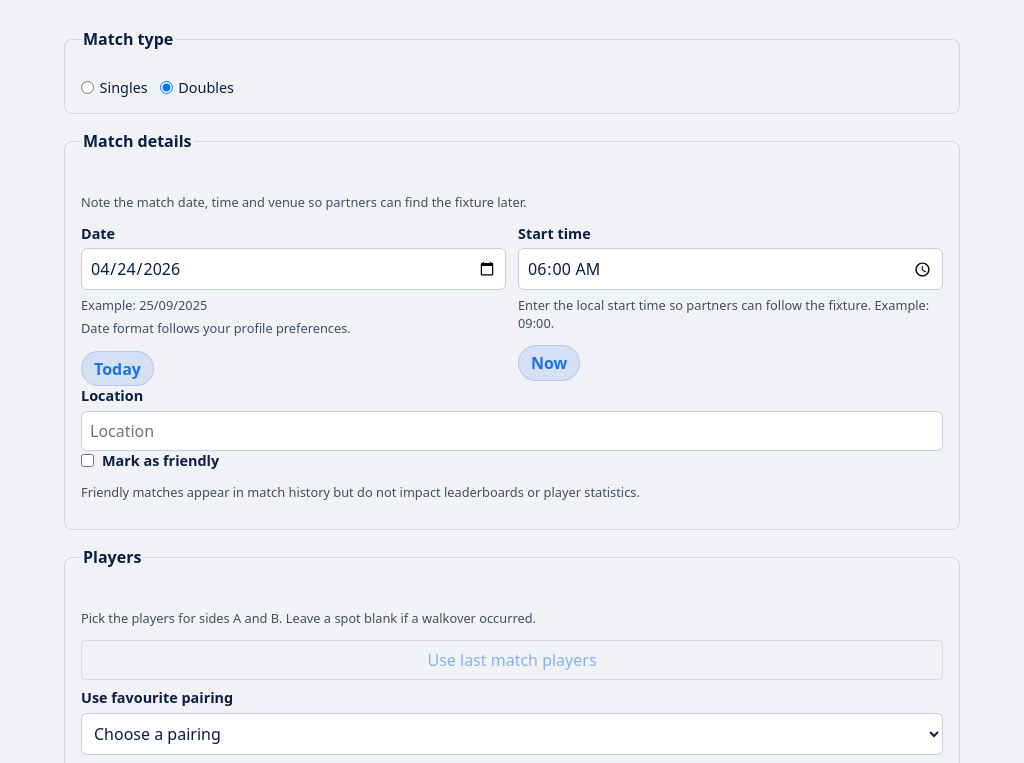
it: RecordSportForm › lets padel matches switch between singles and doubles
The width and height of the screenshot is (1024, 763).
expect the radio button labelled "Doubles" is checked: met, box [160, 81, 173, 94]
Click the radio button labelled "Singles". click: [88, 88]
box: [81, 81, 94, 94]
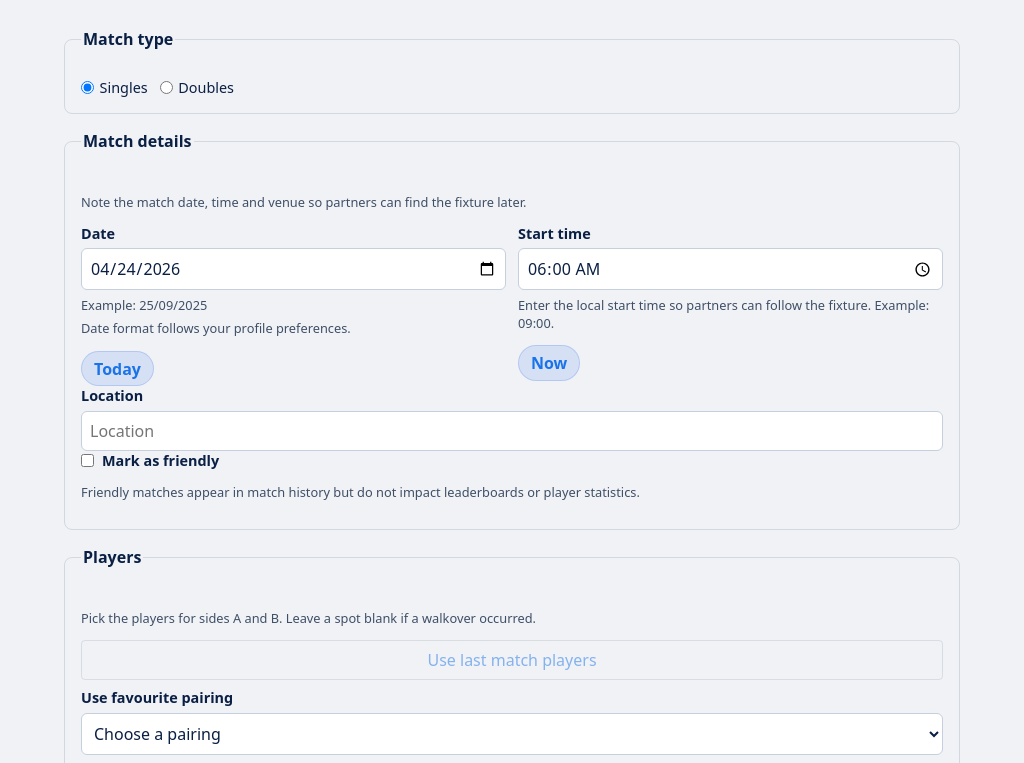
expect the field labelled "team a player 2" is not shown: met
expect the radio button labelled "Singles" is checked: met, box [81, 81, 94, 94]
expect the radio button labelled "Doubles" is not checked: met
Click the radio button labelled "Doubles". click: [166, 88]
box: [160, 81, 173, 94]
(page scrolled)
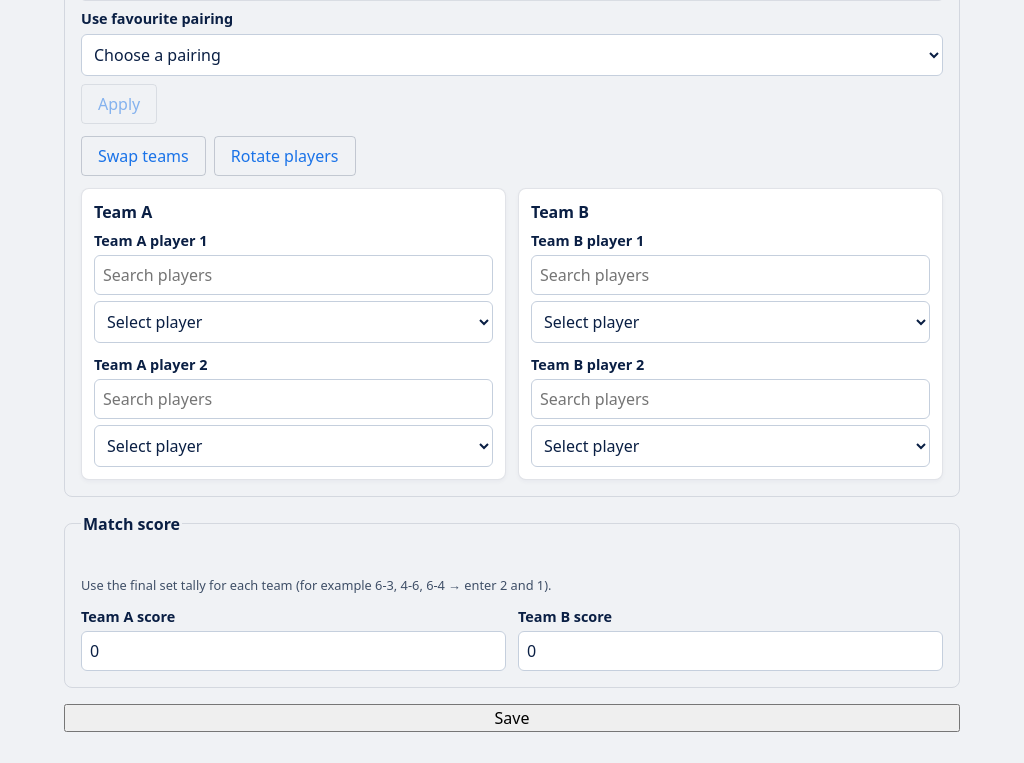
expect the dropdown labelled "Team A player 2" is shown: met, box [94, 425, 493, 467]
